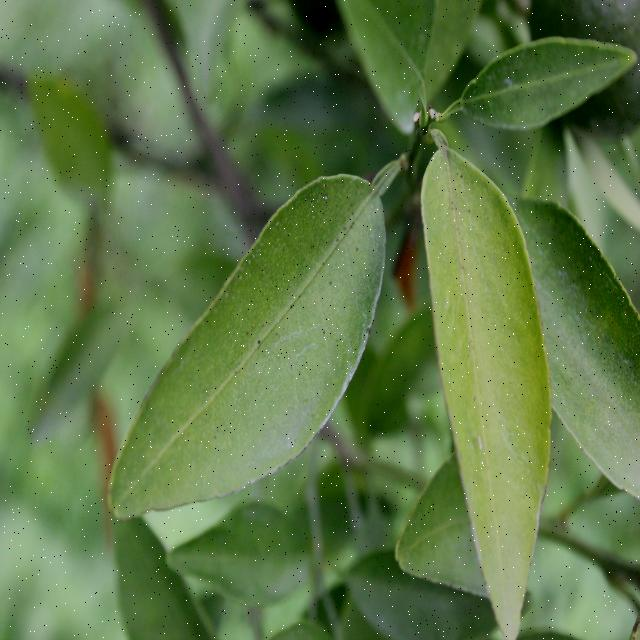blackspot: (139, 192, 369, 490), (427, 170, 547, 537)
